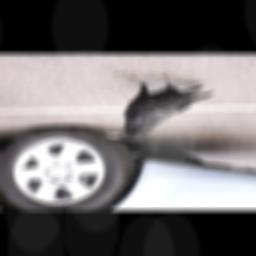Crow: (105, 72, 216, 143)
